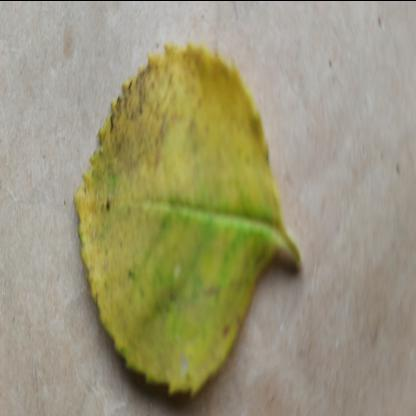black-spot: (74, 34, 288, 398)
